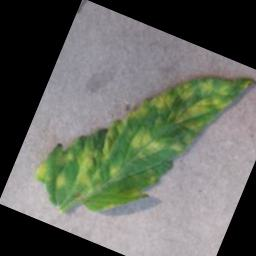Leaf_Mold: (98, 36, 255, 195), (52, 131, 112, 203), (32, 159, 54, 184), (104, 160, 125, 182), (51, 170, 69, 192)
